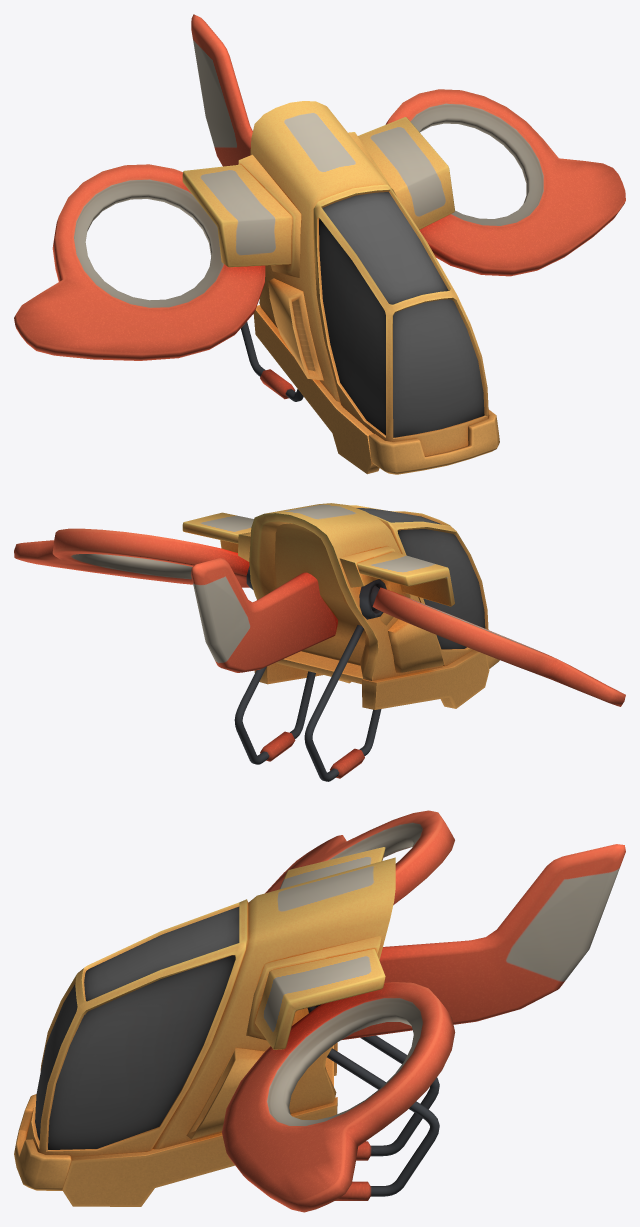
The model's file is mesh_vehicleL.fbx.
The picture shows the model from 3 angles, top to bottom: view 1: azimuth 30°, elevation 25°; view 2: azimuth 150°, elevation 25°; view 3: azimuth 270°, elevation 25°; orthographic projection. The views are drawn at different scales.
Visible parts, largest first — view 1: mesh_vehicleL, mesh_vehicleLwingR, mesh_vehicleLwingL; view 2: mesh_vehicleL, mesh_vehicleLwingL, mesh_vehicleLwingR; view 3: mesh_vehicleL, mesh_vehicleLwingL, mesh_vehicleLwingR.
Part boxes in pixels (left/top/right/bottom): mesh_vehicleL: left=182, top=14, right=499, bottom=474; mesh_vehicleLwingR: left=14, top=164, right=265, bottom=360; mesh_vehicleLwingL: left=385, top=89, right=625, bottom=276; mesh_vehicleL: left=182, top=503, right=499, bottom=781; mesh_vehicleLwingL: left=14, top=528, right=249, bottom=587; mesh_vehicleLwingR: left=372, top=587, right=625, bottom=706; mesh_vehicleL: left=14, top=844, right=625, bottom=1206; mesh_vehicleLwingL: left=222, top=982, right=455, bottom=1212; mesh_vehicleLwingR: left=265, top=810, right=454, bottom=904.
Size of the model in its own units: 5.3 by 2.37 by 3.93.
